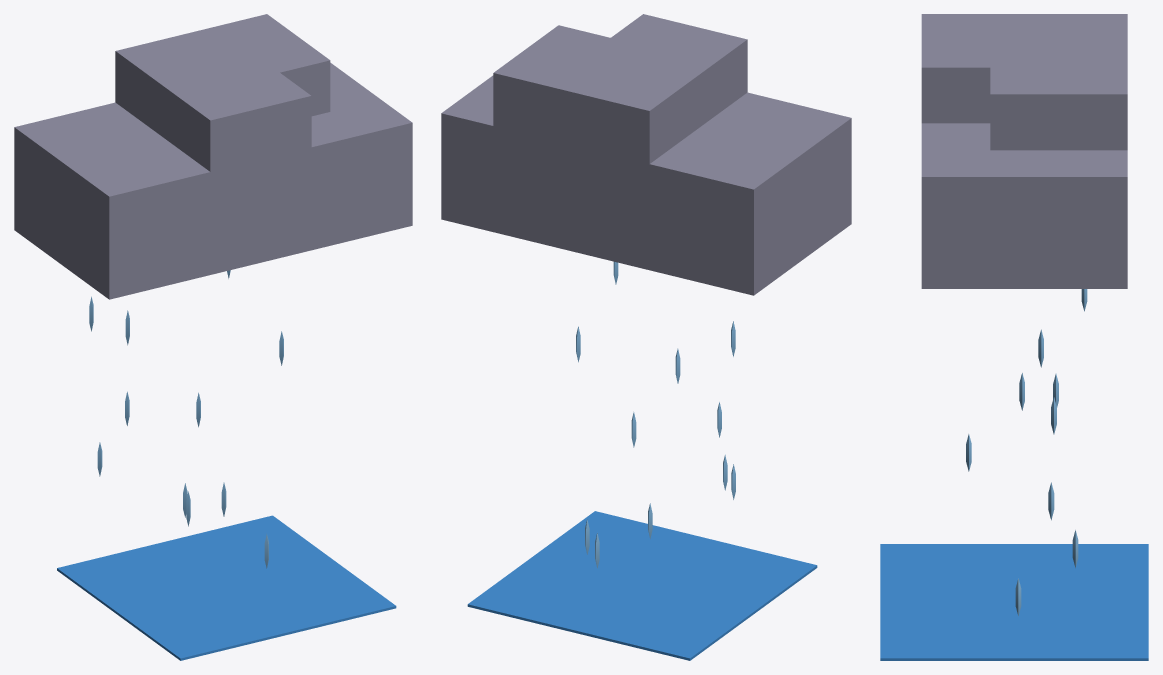
Rendered from rain-cloud-pixor-blocky.glb.
The picture shows the model from 3 angles, left to right: view 1: azimuth 30°, elevation 25°; view 2: azimuth 150°, elevation 25°; view 3: azimuth 270°, elevation 25°; orthographic projection. The views are drawn at different scales.
Visible parts, largest first — view 1: Rain cloud, Rain puddle, Rain streaks; view 2: Rain cloud, Rain puddle, Rain streaks; view 3: Rain cloud, Rain puddle, Rain streaks.
Boxes of the visible parts, x1=… form: Rain cloud: x1=14, y1=14, x2=412, y2=299; Rain puddle: x1=57, y1=515, x2=396, y2=660; Rain streaks: x1=89, y1=270, x2=283, y2=568; Rain cloud: x1=441, y1=14, x2=851, y2=295; Rain puddle: x1=467, y1=511, x2=817, y2=660; Rain streaks: x1=576, y1=261, x2=735, y2=568; Rain cloud: x1=921, y1=14, x2=1127, y2=288; Rain puddle: x1=880, y1=544, x2=1148, y2=660; Rain streaks: x1=966, y1=289, x2=1087, y2=616.
Size of the model in its own units: 1.59 by 2.57 by 1.12.
